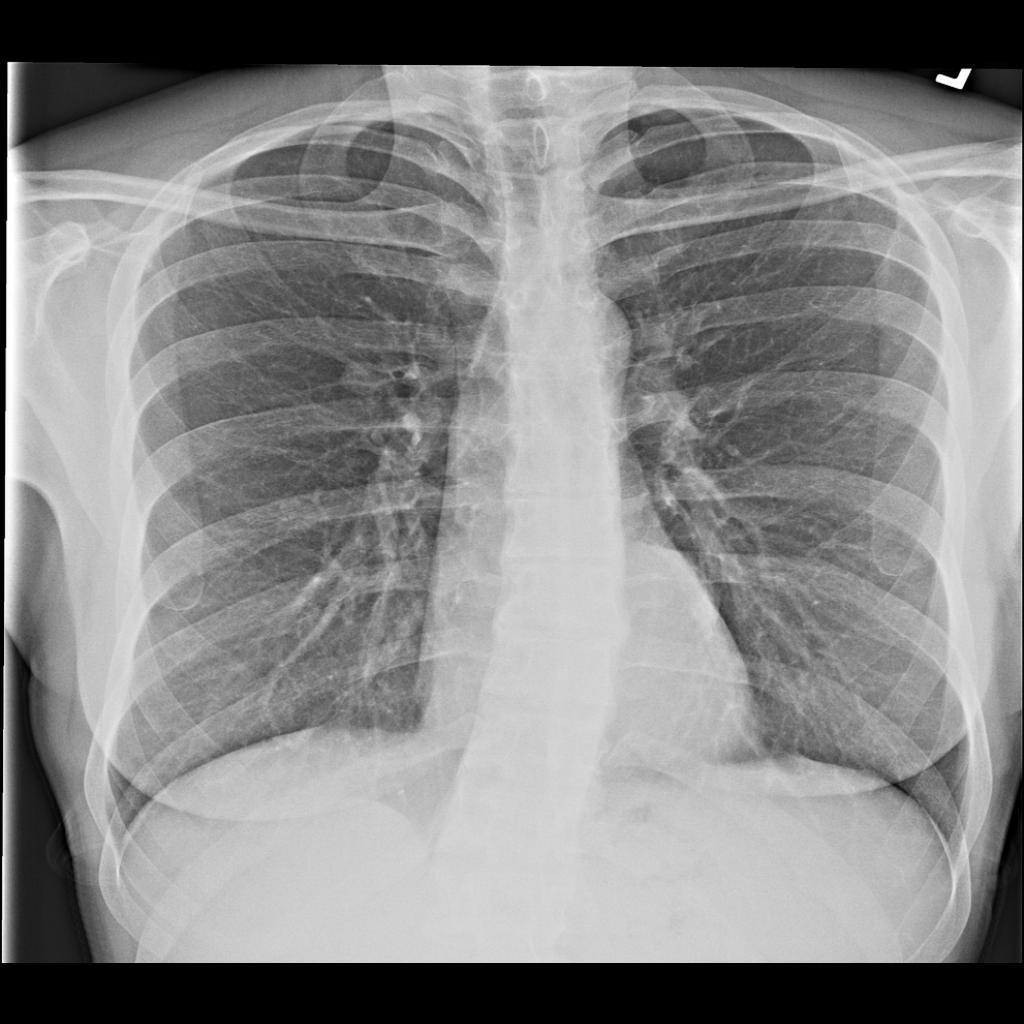Nodule: (340, 355, 382, 404)
